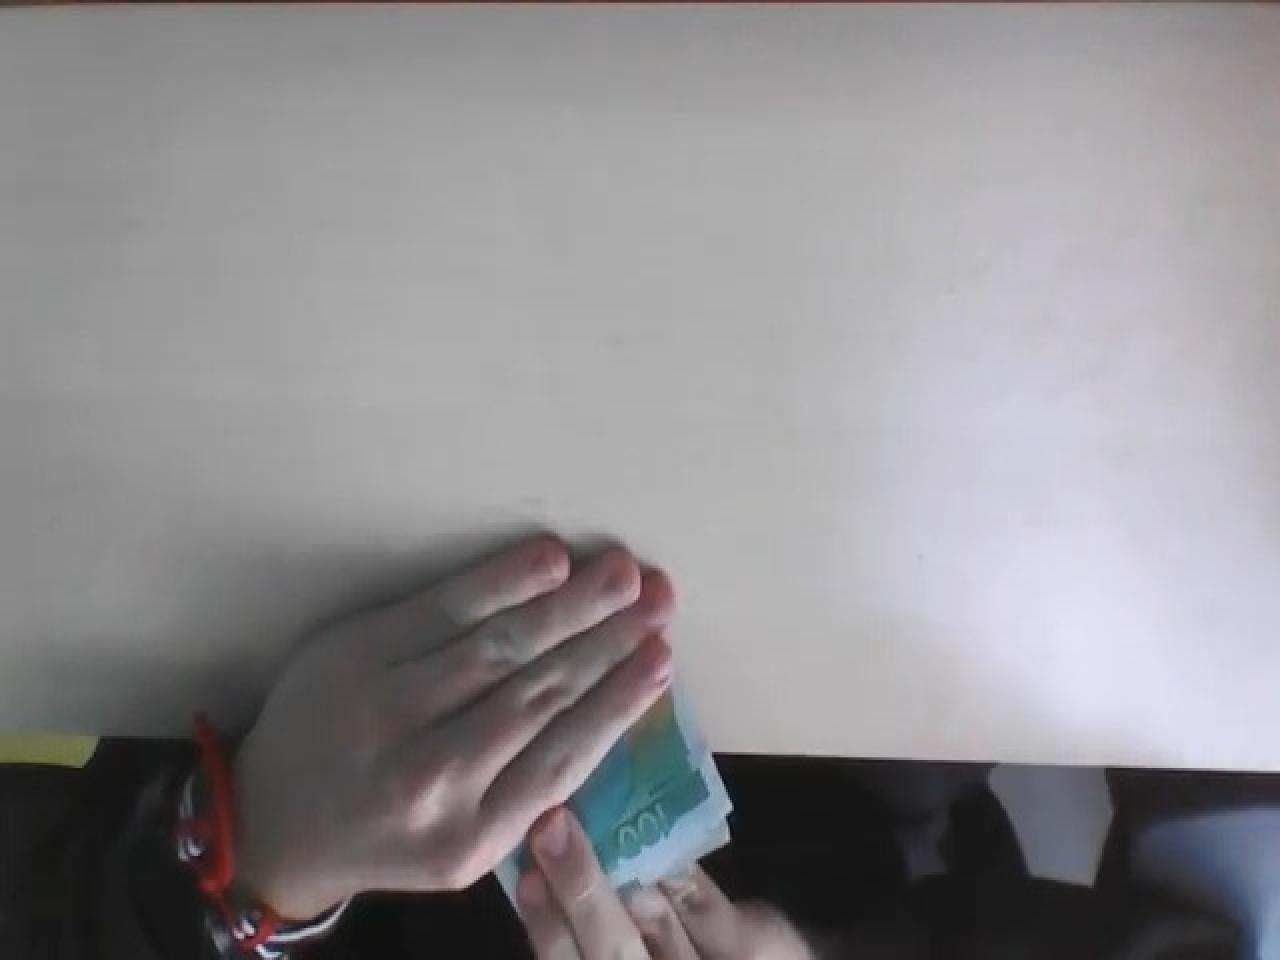100leva: (564, 691, 732, 893)
